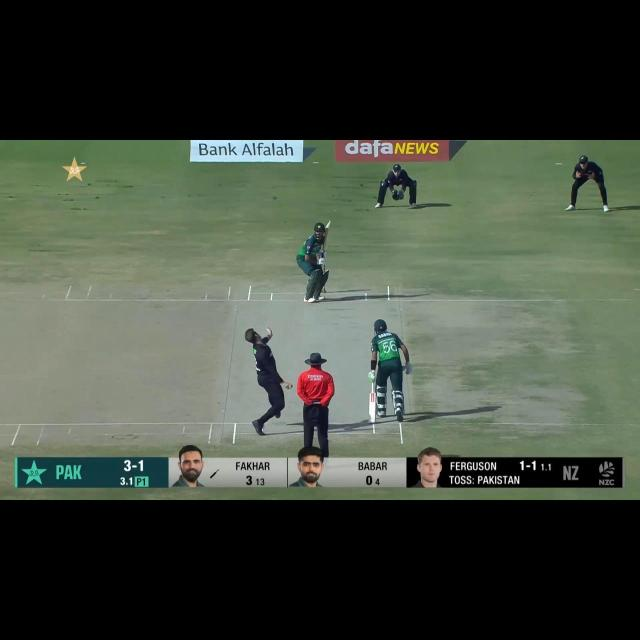bat: (321, 218, 331, 251), (367, 392, 376, 425)
toe: (367, 418, 376, 426), (325, 220, 332, 228)
